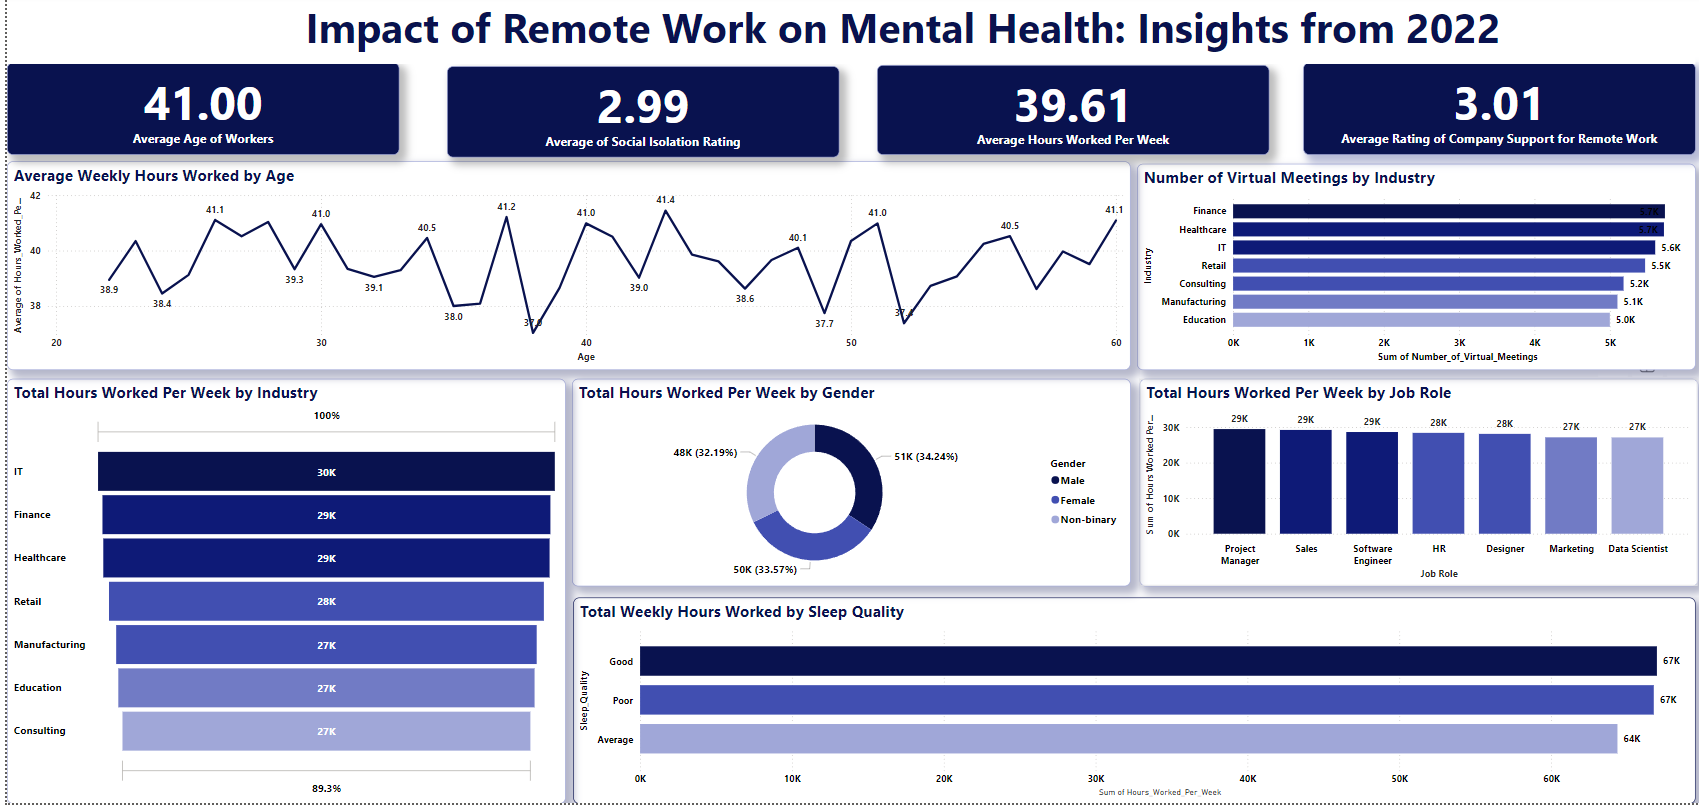

The page's visual inventory and layout, read from the dashboard file:
{"tool":"powerbi","page":{"name":"Page 1","canvas":[2200,1050],"ordinal":0},"visuals":[{"type":"columnChart","title":"Total Hours Worked Per Week by Job Role","fields":{"Category":["Impact_of_Remote_Work_on_Mental.Job_Role"],"Y":["Sum(Impact_of_Remote_Work_on_Mental.Hours_Worked_Per_Week)"]},"box":[1470.8,498.4,725.7,269.5],"z":0},{"type":"clusteredBarChart","title":"Number of Virtual Meetings by Industry","fields":{"Category":["Impact_of_Remote_Work_on_Mental.Industry"],"Y":["Sum(Impact_of_Remote_Work_on_Mental.Number_of_Virtual_Meetings)"]},"box":[1467.5,219.2,725.7,267.9],"z":1000},{"type":"clusteredBarChart","title":"Total Weekly Hours Worked by Sleep Quality","fields":{"Category":["Impact_of_Remote_Work_on_Mental.Sleep_Quality"],"Y":["Sum(Impact_of_Remote_Work_on_Mental.Hours_Worked_Per_Week)"]},"box":[735.4,782.5,1457.8,267.9],"z":2000},{"type":"donutChart","title":"Total Hours Worked Per Week by Gender","fields":{"Category":["Impact_of_Remote_Work_on_Mental.Gender"],"Y":["Sum(Impact_of_Remote_Work_on_Mental.Hours_Worked_Per_Week)"]},"box":[733.8,498.4,725.7,269.5],"z":3000},{"type":"funnel","title":"Total Hours Worked Per Week by Industry","fields":{"Category":["Impact_of_Remote_Work_on_Mental.Industry"],"Y":["Sum(Impact_of_Remote_Work_on_Mental.Hours_Worked_Per_Week)"]},"box":[0,498.4,725.7,552],"z":4000},{"type":"lineChart","title":"Total Weekly Hours Worked by Age ","fields":{"Y":["Sum(Impact_of_Remote_Work_on_Mental.Hours_Worked_Per_Week)"],"Category":["Impact_of_Remote_Work_on_Mental.Age"]},"box":[0,215.9,1459.4,271.1],"z":5000},{"type":"card","fields":{"Values":["Avg(Impact_of_Remote_Work_on_Mental.Social_Isolation_Rating)"]},"box":[571.4,92.5,509.7,118.5],"z":6000},{"type":"card","fields":{"Values":["Avg(Impact_of_Remote_Work_on_Mental.Company_Support_for_Remote_Work)"]},"box":[1683.4,87.7,509.7,120.1],"z":7000},{"type":"card","fields":{"Values":["Avg(Impact_of_Remote_Work_on_Mental.Hours_Worked_Per_Week)"]},"box":[1129.9,90.9,509.7,116.9],"z":8000},{"type":"card","fields":{"Values":["Avg(Impact_of_Remote_Work_on_Mental.Age)"]},"box":[0,87.7,509.7,120.1],"z":9000},{"type":"textbox","box":[0,0,2193.2,89.3],"z":10000}]}

Visuals, with their boxes in screenshot pixels (x1, y1, x2, y2), scaled from the page's 2200x1050 canvas onto the 1699x809 screenshot:
"Total Hours Worked Per Week by Job Role" columnChart: 1136,384,1696,592
"Number of Virtual Meetings by Industry" clusteredBarChart: 1133,169,1694,375
"Total Weekly Hours Worked by Sleep Quality" clusteredBarChart: 568,603,1694,808
"Total Hours Worked Per Week by Gender" donutChart: 567,384,1127,592
"Total Hours Worked Per Week by Industry" funnel: 0,384,560,808
"Total Weekly Hours Worked by Age " lineChart: 0,166,1127,375
card - Avg(Impact_of_Remote_Work_on_Mental.Social_Isolation_Rating): 441,71,835,163
card - Avg(Impact_of_Remote_Work_on_Mental.Company_Support_for_Remote_Work): 1300,68,1694,160
card - Avg(Impact_of_Remote_Work_on_Mental.Hours_Worked_Per_Week): 873,70,1266,160
card - Avg(Impact_of_Remote_Work_on_Mental.Age): 0,68,394,160
textbox: 0,0,1694,69
